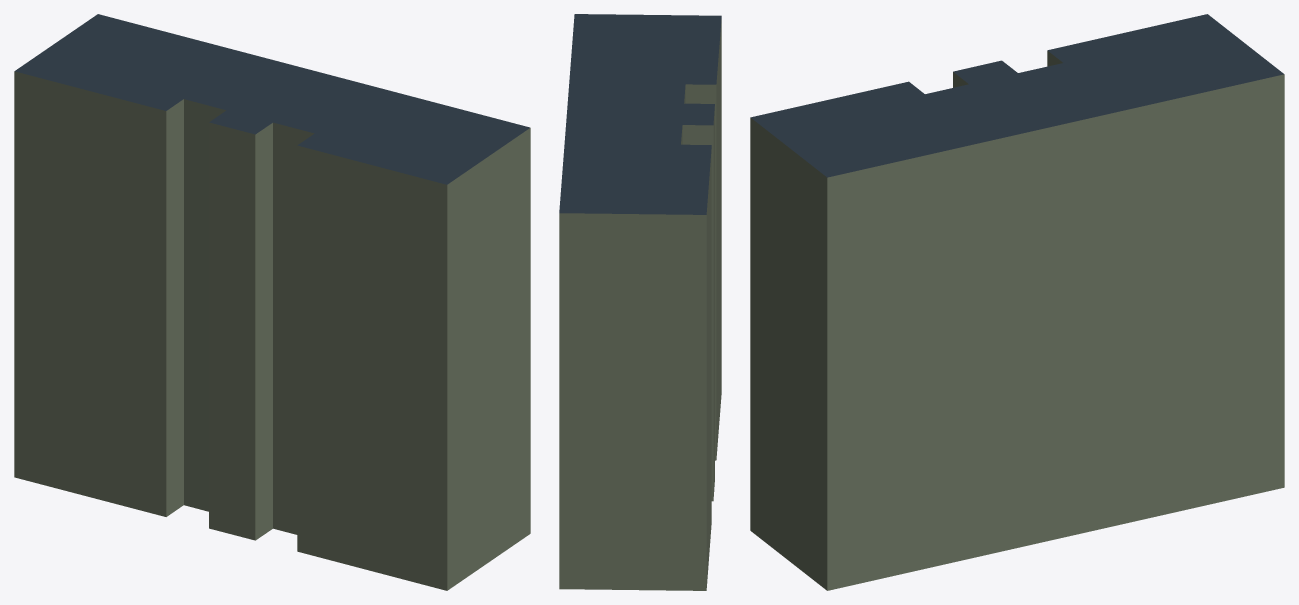
File: nyc-1022639-0.glb
3 views of the same model, side by side, from view 1: azimuth 30°, elevation 25°; view 2: azimuth 150°, elevation 25°; view 3: azimuth 270°, elevation 25° (orthographic). The views are drawn at different scales.
Parts seen in each view (by area): view 1: nyc-1022639-0; view 2: nyc-1022639-0; view 3: nyc-1022639-0.
Part boxes in pixels (<box>): nyc-1022639-0: <box>14,14,530,590</box>; nyc-1022639-0: <box>559,14,721,590</box>; nyc-1022639-0: <box>750,14,1284,590</box>.
Size of the model in its own units: 18.37 by 21.64 by 25.34.
